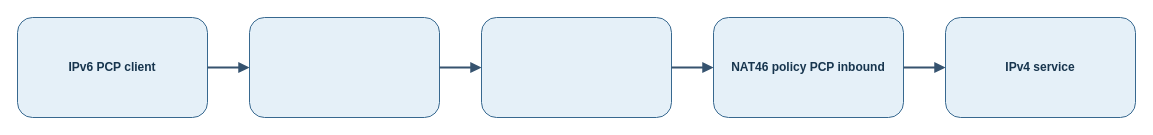
Some shapes in this 1153 by 135 pixel diagram are drawn without their labels. Here are the shapes that lost their labels. From the top down, the box of each, then its label:
(248, 16, 440, 118): PCP MAP request
(480, 16, 672, 118): FortiGate PCP pool NAT46 enabled
